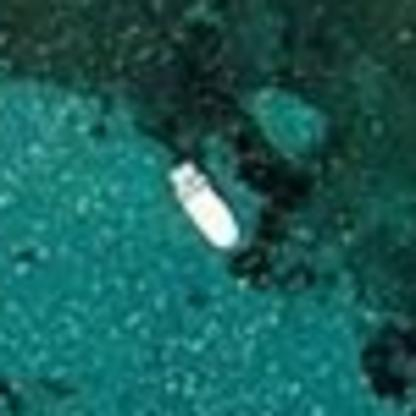ship: (154, 154, 248, 258)
